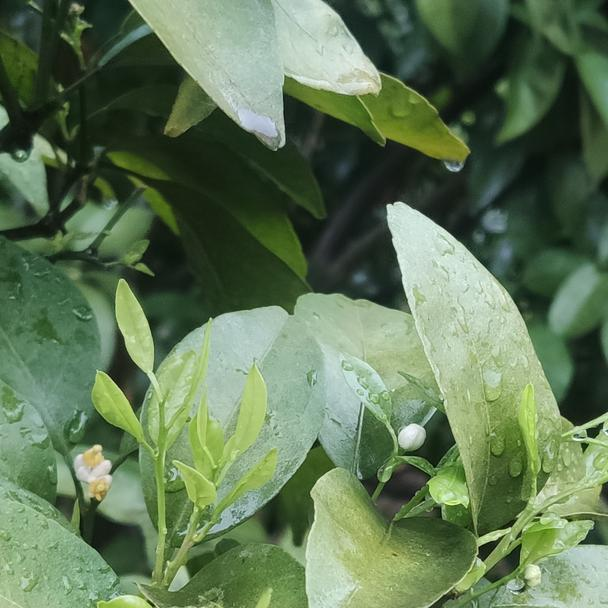shoot: (105, 293, 205, 530), (180, 372, 264, 544)
